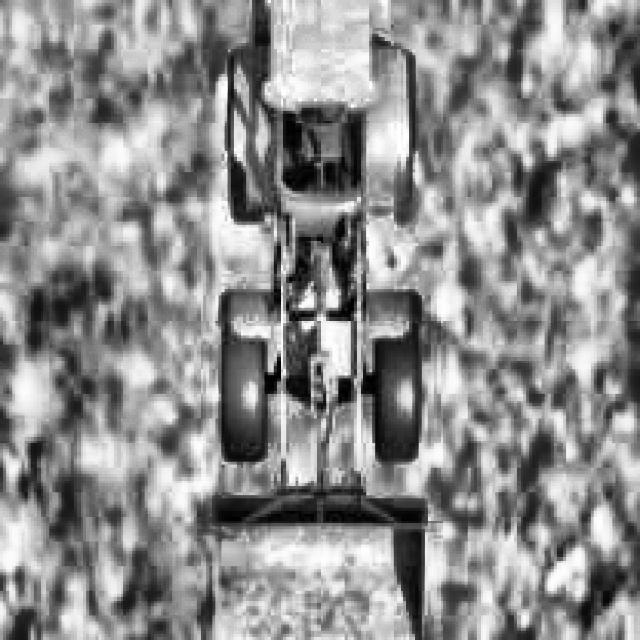buldozerpayloadergrader: (218, 0, 434, 640)
